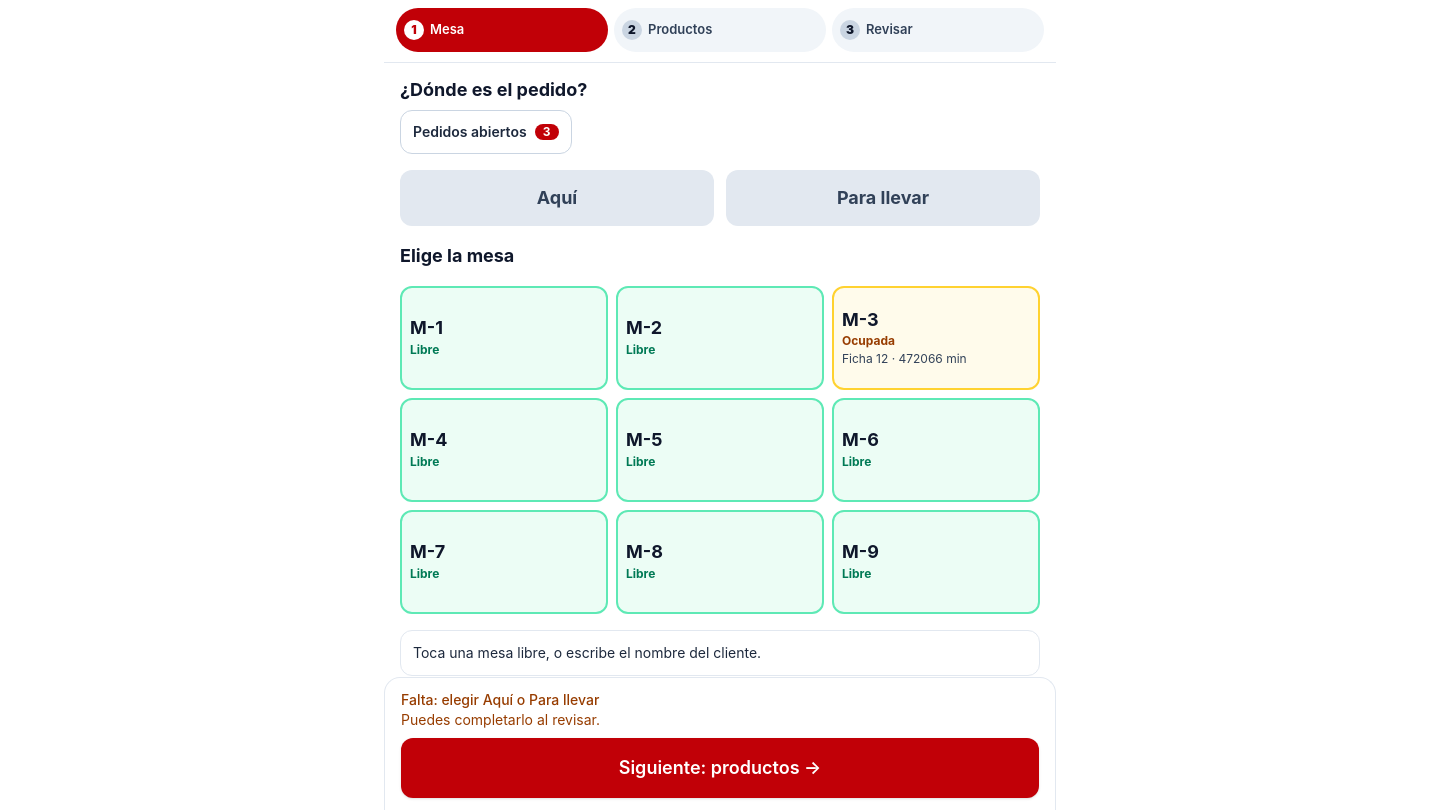
open orders › shows the service type of open orders, and none for orders without one
Click the button "Pedidos abiertos 3" at (486, 132), box left=400, top=110, right=572, bottom=154
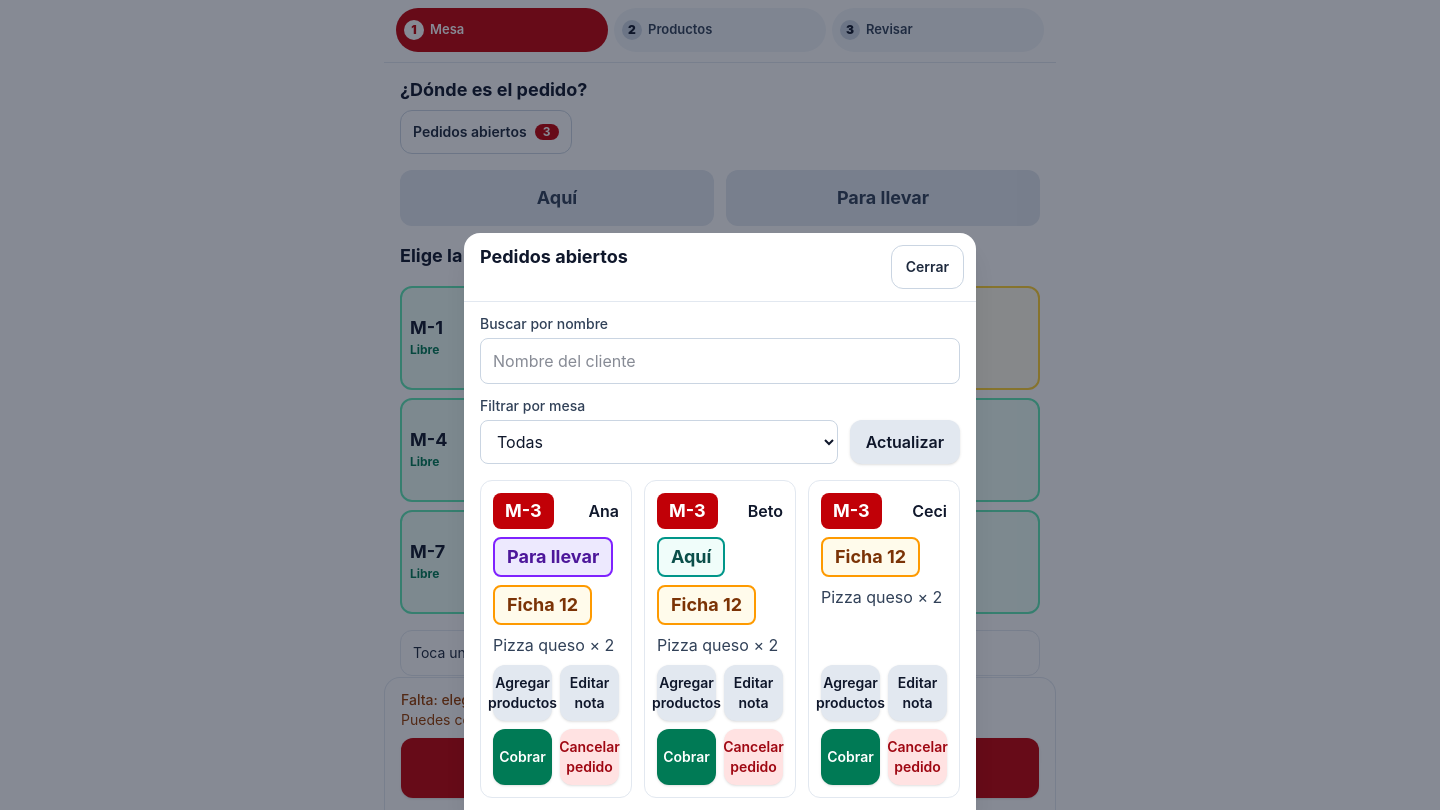
Now the text "Para llevar" is shown, box left=493, top=537, right=613, bottom=577
Now the text "Aquí" is shown, box left=657, top=537, right=726, bottom=577
